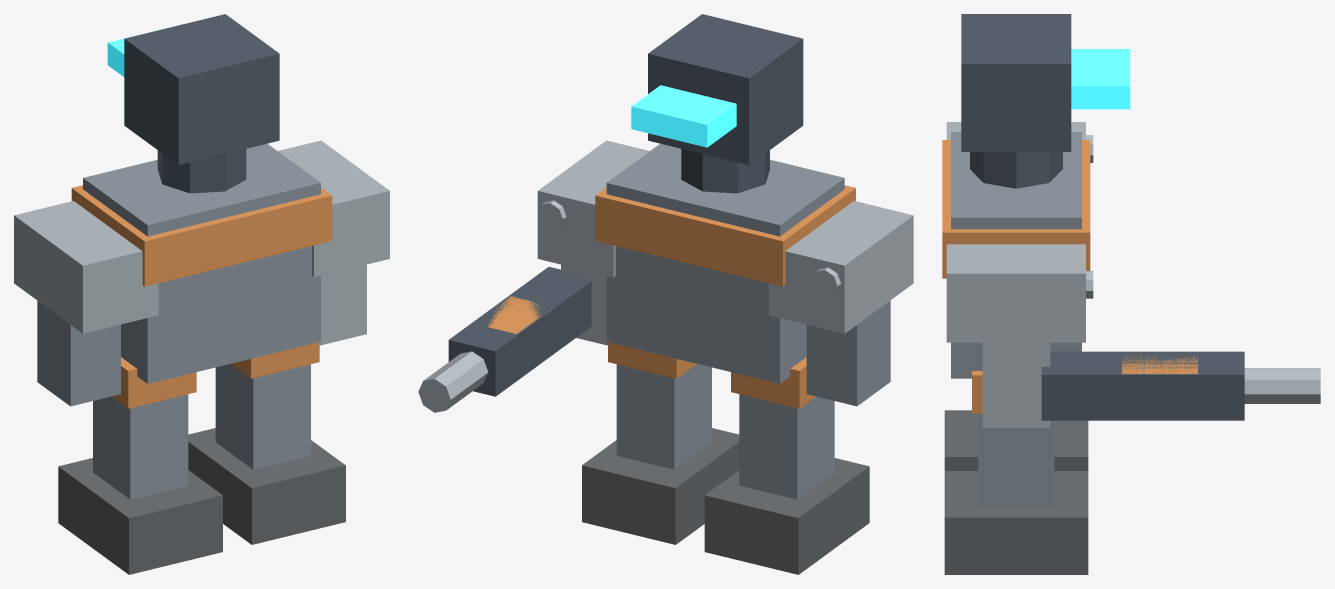
Rendered from marine.glb.
3 views of the same model, side by side, from view 1: azimuth 30°, elevation 25°; view 2: azimuth 150°, elevation 25°; view 3: azimuth 270°, elevation 25° (orthographic).
Parts seen in each view (by area): view 1: detail_006, detail_011, detail_008, detail_000, detail_001, detail_007, detail_003, detail_002, detail_009, detail_013, detail_014, detail_010 (+3 smaller); view 2: detail_006, detail_011, detail_008, detail_000, detail_001, detail_007, detail_015, detail_003, detail_002, detail_009, detail_013, detail_012 (+8 smaller); view 3: detail_011, detail_009, detail_015, detail_001, detail_006, detail_003, detail_014, detail_007, detail_000, detail_012, detail_010, detail_016 (+1 smaller).
Part boxes in pixels (x1,y1,x2,y2): detail_006: (83,143,320,383); detail_011: (124,14,279,165); detail_008: (14,201,158,333); detail_000: (58,458,222,574); detail_001: (188,428,345,544); detail_007: (71,185,332,286); detail_003: (215,364,310,469); detail_002: (93,394,188,499); detail_009: (278,140,389,277); detail_013: (37,301,120,406); detail_014: (319,264,366,345); detail_010: (157,149,246,193); detail_006: (606,143,844,383); detail_011: (648,14,803,165); detail_008: (769,201,913,333); detail_000: (704,458,869,574); detail_001: (582,428,739,544); detail_007: (595,185,855,286); detail_015: (448,267,591,396); detail_003: (616,364,711,469); detail_002: (739,394,834,499); detail_009: (537,140,649,277); detail_013: (806,300,890,406); detail_012: (631,85,736,147); detail_011: (961,14,1071,151); detail_009: (946,244,1085,342); detail_015: (1041,351,1244,420); detail_001: (944,471,1088,574); detail_006: (951,132,1081,378); detail_003: (978,413,1054,506); detail_014: (982,342,1050,427); detail_007: (942,140,1090,278); detail_000: (944,410,1088,470); detail_012: (1071,49,1130,109); detail_010: (970,152,1062,188); detail_016: (1244,368,1320,403).
Bounding box in the file's own units: 0.88 × 1.26 × 0.895.
